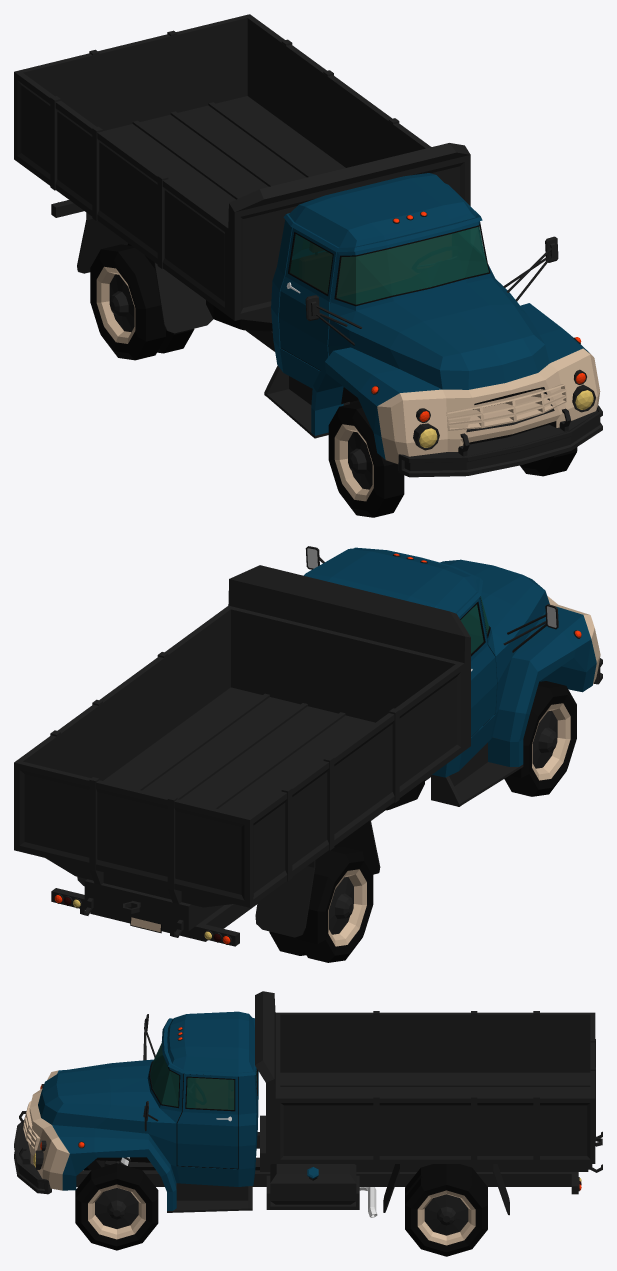
Rendered from VintageTruck_02.FBX.
3 renders of one model, top to bottom at view 1: azimuth 30°, elevation 25°; view 2: azimuth 150°, elevation 25°; view 3: azimuth 270°, elevation 25°, orthographic. The views are drawn at different scales.
Visible parts, largest first — view 1: dumpBed, VintageTruck_02, interior, wheels_b_r, bumper_f, wheel_f_r, grill, lights, wheel_f_l, mirror_l, mirror_r, spareWheel; view 2: dumpBed, VintageTruck_02, wheels_b_r, wheel_f_r, bumper_b, mirror_r, interior; view 3: dumpBed, VintageTruck_02, wheels_b_l, wheel_f_l, tank, interior, bumper_f, grill.
Boxes of the visible parts, x1=… form: dumpBed: x1=14, y1=14, x2=470, y2=333; VintageTruck_02: x1=246, y1=173, x2=600, y2=463; interior: x1=290, y1=227, x2=488, y2=304; wheels_b_r: x1=90, y1=243, x2=194, y2=360; bumper_f: x1=398, y1=405, x2=602, y2=477; wheel_f_r: x1=328, y1=402, x2=404, y2=517; grill: x1=446, y1=384, x2=566, y2=430; lights: x1=58, y1=200, x2=595, y2=450; wheel_f_l: x1=520, y1=447, x2=577, y2=476; mirror_l: x1=503, y1=236, x2=558, y2=301; mirror_r: x1=305, y1=295, x2=362, y2=345; spareWheel: x1=206, y1=300, x2=272, y2=331; dumpBed: x1=14, y1=565, x2=470, y2=937; VintageTruck_02: x1=80, y1=547, x2=600, y2=941; wheels_b_r: x1=269, y1=846, x2=373, y2=962; wheel_f_r: x1=504, y1=681, x2=576, y2=796; bumper_b: x1=51, y1=888, x2=239, y2=946; mirror_r: x1=503, y1=604, x2=558, y2=652; interior: x1=461, y1=601, x2=488, y2=653; dumpBed: x1=255, y1=991, x2=595, y2=1215; VintageTruck_02: x1=28, y1=1011, x2=602, y2=1212; wheels_b_l: x1=405, y1=1164, x2=487, y2=1256; wheel_f_l: x1=75, y1=1163, x2=158, y2=1250; tank: x1=270, y1=1164, x2=356, y2=1204; interior: x1=150, y1=1044, x2=233, y2=1109; bumper_f: x1=14, y1=1111, x2=51, y2=1194; grill: x1=23, y1=1101, x2=40, y2=1150.
Bounding box in the file's own units: 33.18 × 32.1 × 90.32.
